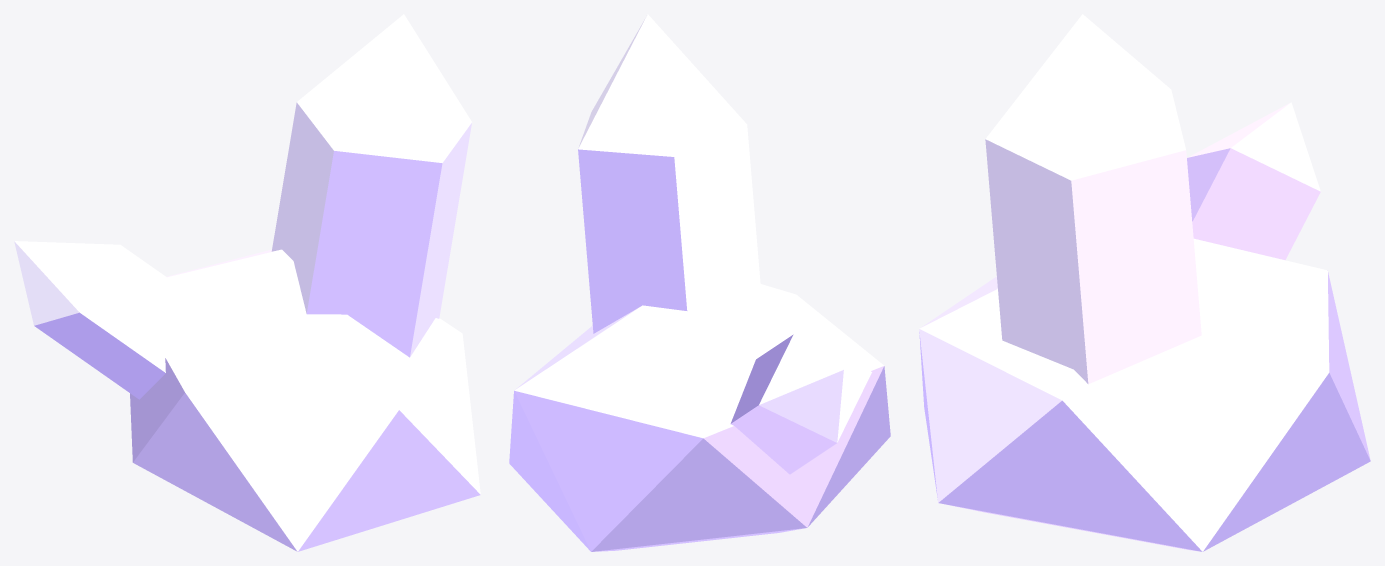
The model's file is crystal-rock.glb.
3 views of the same model, side by side, from view 1: azimuth 30°, elevation 25°; view 2: azimuth 150°, elevation 25°; view 3: azimuth 270°, elevation 25° (orthographic). The views are drawn at different scales.
Visible parts, largest first — view 1: crystal-rock; view 2: crystal-rock; view 3: crystal-rock.
Boxes of the visible parts, box(x1,y1,x2,y2) form: crystal-rock: box(14, 14, 480, 551); crystal-rock: box(509, 14, 890, 551); crystal-rock: box(919, 14, 1370, 551).
Bounding box in the file's own units: 2.28 × 2.59 × 2.1.
